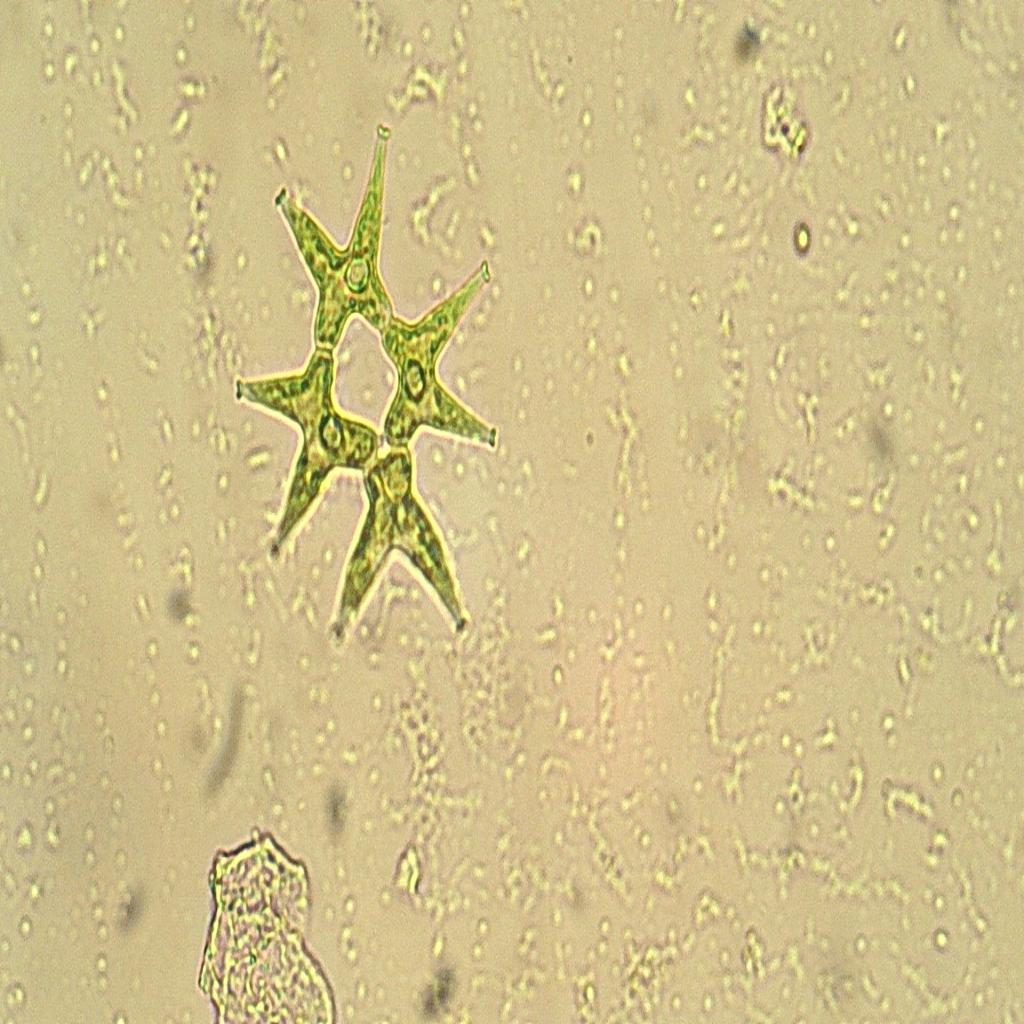Pediastrum_75FI: (230, 105, 500, 697)
